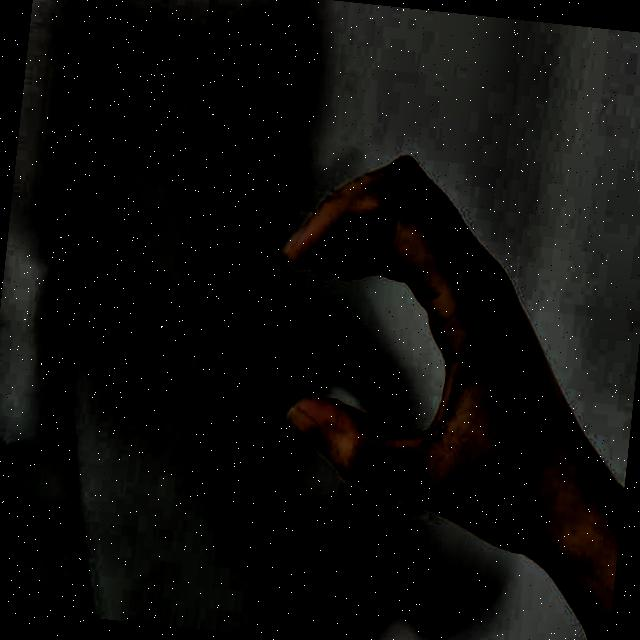A: (221, 118, 582, 590)
